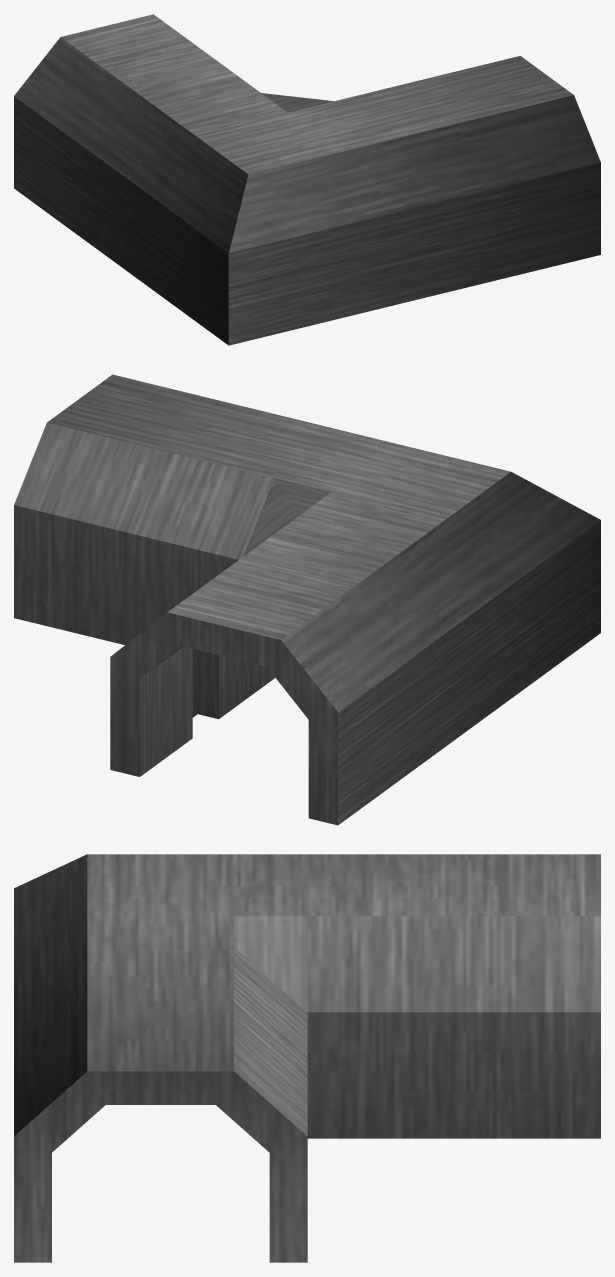
Rendered from HallwayCornerPiece.fbx.
3 views of the same model, one above another, from view 1: azimuth 30°, elevation 25°; view 2: azimuth 150°, elevation 25°; view 3: azimuth 270°, elevation 25° (orthographic). The views are drawn at different scales.
Parts seen in each view (by area): view 1: HallwayCornerPiece; view 2: HallwayCornerPiece; view 3: HallwayCornerPiece.
Part boxes in pixels (x1,y1,x2,y2): HallwayCornerPiece: (14, 14, 600, 345); HallwayCornerPiece: (14, 374, 600, 825); HallwayCornerPiece: (14, 854, 600, 1262).
Bounding box in the file's own units: 8 × 2.88 × 8.
Materials: 1 (1 with a texture image).
